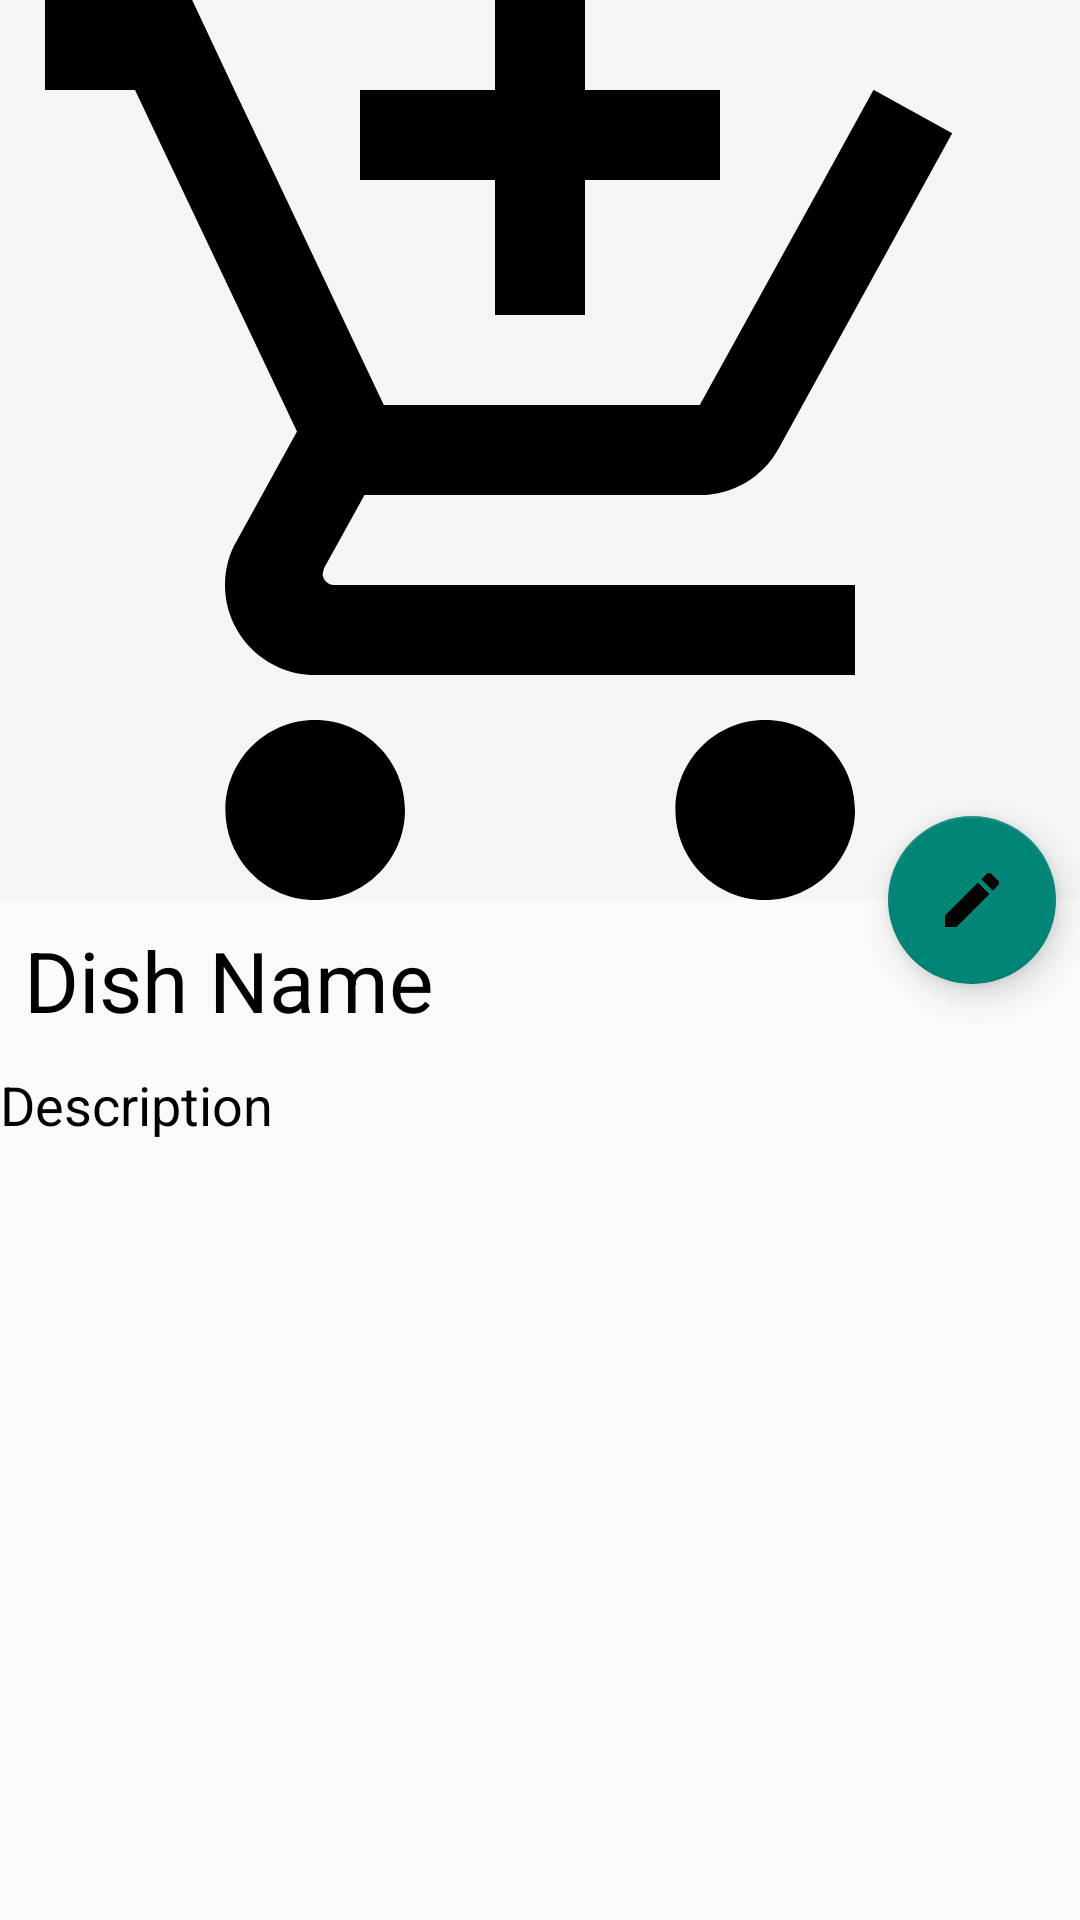

Icons on this 1080px×1920px Android screen, each with the point to tap as (x=x, y=y):
fab: (x=972, y=900)
